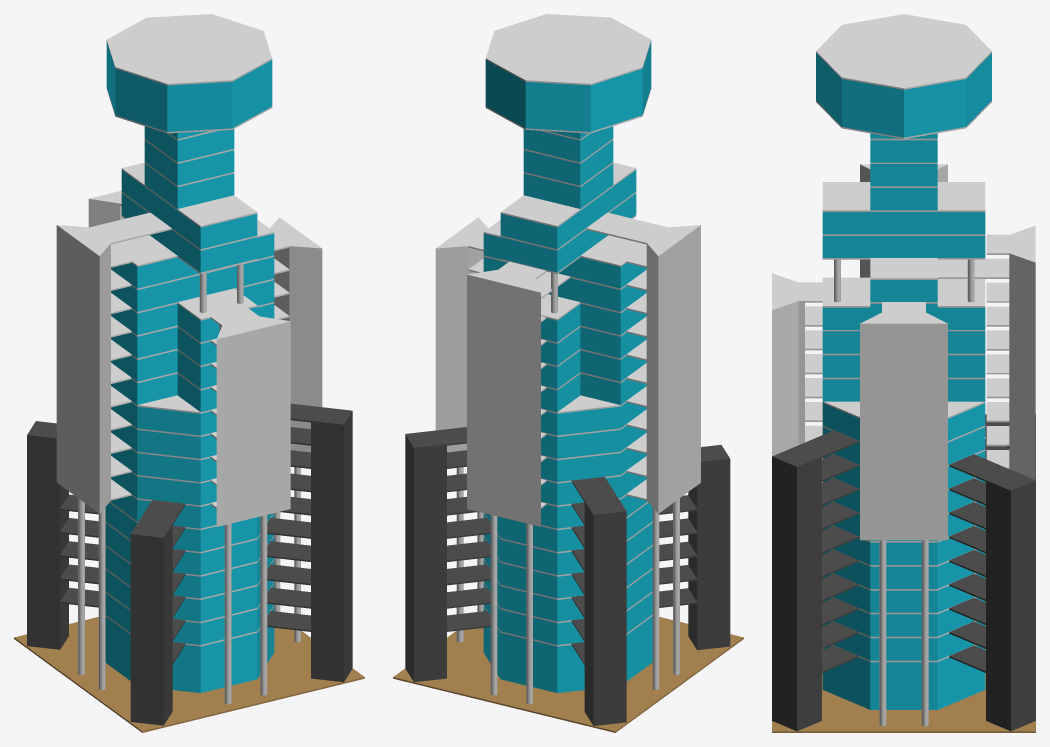
File: WooCorp Tower.glb
3 renders of one model, left to right at view 1: azimuth 30°, elevation 25°; view 2: azimuth 150°, elevation 25°; view 3: azimuth 270°, elevation 25°, orthographic. The views are drawn at different scales.
Parts seen in each view (by area): view 1: Cylinder, Cube.007, Cylinder.001, Cube.003, Cube.004, Cube.001, Cube, Base, Cube.006, Pillars, Cube.005, Pillars.001; view 2: Cylinder, Cube.005, Cube.007, Cylinder.001, Cube.002, Cube.001, Cube, Base, Cube.006, Pillars; view 3: Cylinder, Cube.006, Cube.003, Cylinder.001, Cube.002, Cube.005, Cube.004, Base, Pillars, Pillars.001, Cube.007.
Part boxes in pixels (x1,y1,x2,y2): Cylinder: (105,126,274,692); Cube.007: (56,212,171,513); Cylinder.001: (106,14,272,133); Cube.003: (267,403,352,682); Cube.004: (210,307,290,526); Cube.001: (27,421,98,649); Cube: (130,500,185,725); Base: (14,617,364,732); Cube.006: (270,217,322,452); Pillars: (78,467,300,704); Cube.005: (88,190,124,227); Pillars.001: (199,263,243,312); Cylinder: (483,126,652,692); Cube.005: (467,261,570,526); Cube.007: (586,212,700,513); Cylinder.001: (485,14,651,133); Cube.002: (405,427,490,682); Cube.001: (571,476,626,725); Cube: (659,445,730,650); Base: (393,617,743,732); Cube.006: (435,217,487,452); Pillars: (456,467,679,704); Cylinder: (822,133,985,709); Cube.006: (860,302,947,540); Cube.003: (772,430,858,731); Cylinder.001: (816,14,991,139); Cube.002: (949,454,1035,731); Cube.005: (937,225,1035,479); Cube.004: (772,273,822,482); Base: (772,625,1035,732); Pillars: (879,540,928,726); Pillars.001: (834,259,974,302); Cube.007: (860,164,947,277).
Bounding box in the file's own units: 45.78 × 120 × 45.72.
